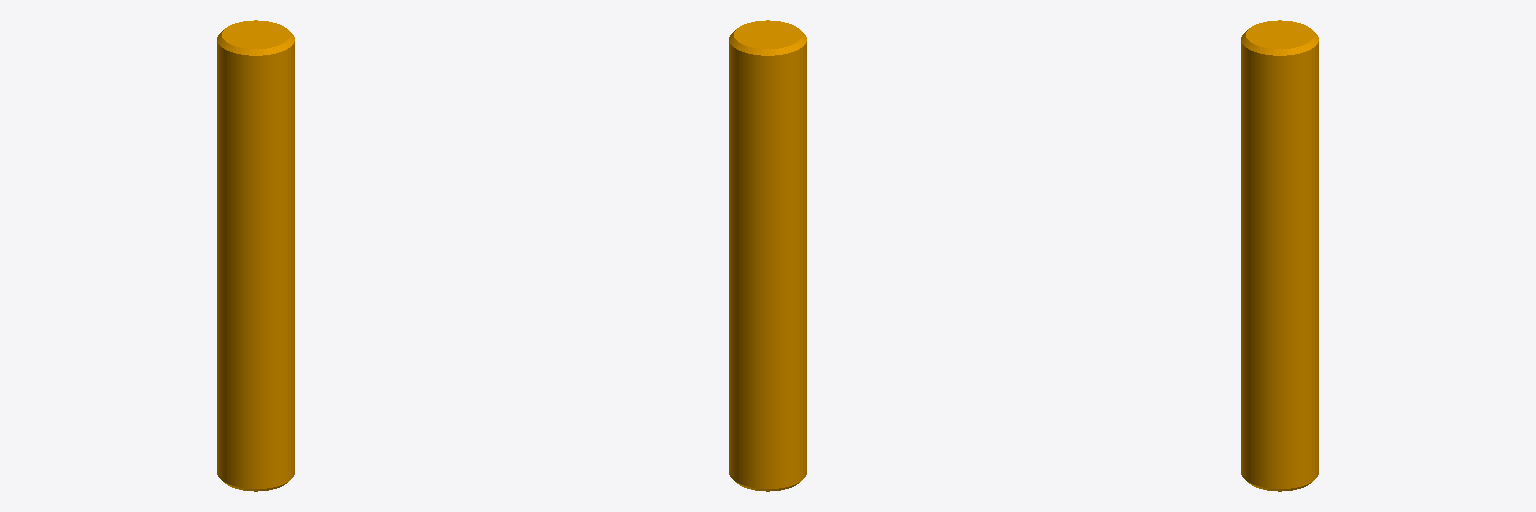
robot.urdf — factory_round_peg_8mm_loose:
<?xml version="1.0"?>
<robot name="factory_round_peg_8mm_loose">
    <link name="factory_round_peg_8mm_loose">
        <visual>
            <geometry>
                <mesh filename="../mesh/factory_insertion/factory_round_peg_8mm_loose.obj"/>
            </geometry>
        </visual>
        <collision>
            <geometry>
                <mesh filename="../mesh/factory_insertion/factory_round_peg_8mm_loose.obj"/>
            </geometry>
            <!-- sdf resolution="256"-->
        </collision>
    </link>
</robot>

--- What the picture shows (computed from the rendered views, not written in the file) ---
Views: 3 orthographic renders of the robot side by side, from view 1: azimuth 30°, elevation 25°; view 2: azimuth 150°, elevation 25°; view 3: azimuth 270°, elevation 25°.
Robot: factory_round_peg_8mm_loose — 1 links, 0 joints (none); root link factory_round_peg_8mm_loose; default pose: all joints at 0.
Visible links, largest first — view 1: factory_round_peg_8mm_loose; view 2: factory_round_peg_8mm_loose; view 3: factory_round_peg_8mm_loose.
Boxes of the visible links, x1,y1,x2,y2 form: factory_round_peg_8mm_loose: [217, 20, 294, 491]; factory_round_peg_8mm_loose: [729, 20, 806, 491]; factory_round_peg_8mm_loose: [1241, 20, 1318, 491].
Size in the robot's own frame: 0.008 by 0.008 by 0.05 metres.
Meshes: 1 distinct files referenced, 1 mesh visuals loaded (1 OBJ).
